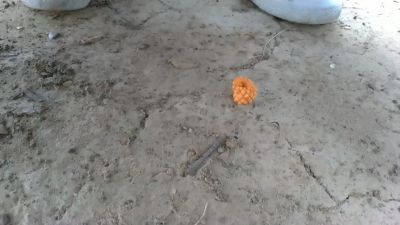eggs: (232, 72, 255, 109)
